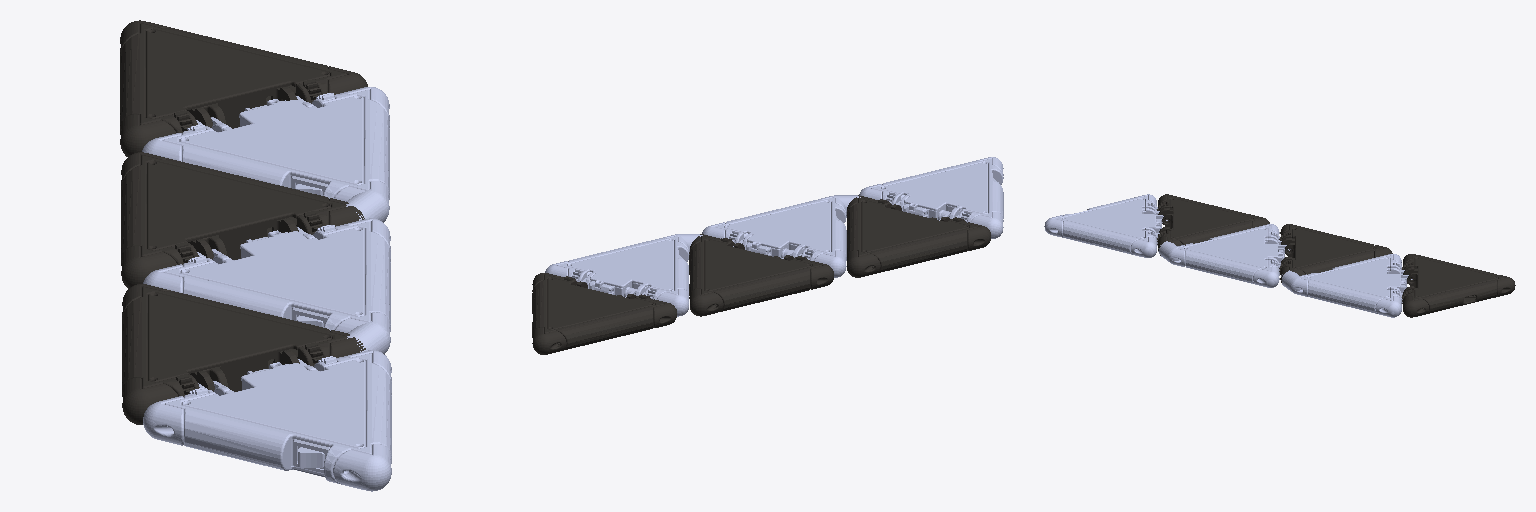
robot.urdf — 3modules:
<?xml version="1.0" encoding="utf-8"?>
<!-- This URDF was automatically created by SolidWorks to URDF Exporter! Originally created by [author] ([email redacted]) 
     Commit Version: 1.6.0-4-g7f85cfe  Build Version: 1.6.7995.38578
     For more information, please see http://wiki.ros.org/sw_urdf_exporter -->
<robot
  name="3modules">
  <link
    name="base_piece">
    <inertial>
      <origin
        xyz="0.0010345 0.005326 0.010966"
        rpy="0 0 0" />
      <mass
        value="0.080978" />
      <inertia
        ixx="4.7155E-05"
        ixy="1.4654E-07"
        ixz="-5.4158E-08"
        iyy="4.6452E-05"
        iyz="4.434E-08"
        izz="8.9367E-05" />
    </inertial>
    <visual>
      <origin
        xyz="0 0 0"
        rpy="0 0 0" />
      <geometry>
        <mesh
          filename="package://3modules/meshes/base_piece.STL" />
      </geometry>
      <material
        name="">
        <color
          rgba="0.79216 0.81961 0.93333 1" />
      </material>
    </visual>
    <collision>
      <origin
        xyz="0 0 0"
        rpy="0 0 0" />
      <geometry>
        <mesh
          filename="package://3modules/meshes/base_piece.STL" />
      </geometry>
    </collision>
  </link>
  <link
    name="link1">
    <inertial>
      <origin
        xyz="0.0087368 9.3905E-07 -0.0054744"
        rpy="0 0 0" />
      <mass
        value="0.0023104" />
      <inertia
        ixx="1.8096E-08"
        ixy="-1.7121E-12"
        ixz="4.7185E-09"
        iyy="1.3363E-07"
        iyz="2.3371E-12"
        izz="1.4184E-07" />
    </inertial>
    <visual>
      <origin
        xyz="0 0 0"
        rpy="0 0 0" />
      <geometry>
        <mesh
          filename="package://3modules/meshes/link1.STL" />
      </geometry>
      <material
        name="">
        <color
          rgba="0.79216 0.81961 0.93333 1" />
      </material>
    </visual>
    <collision>
      <origin
        xyz="0 0 0"
        rpy="0 0 0" />
      <geometry>
        <mesh
          filename="package://3modules/meshes/link1.STL" />
      </geometry>
    </collision>
  </link>
  <joint
    name="joint1"
    type="revolute">
    <origin
      xyz="0 0.033775 0.011"
      rpy="1.5708 0 1.5712" />
    <parent
      link="base_piece" />
    <child
      link="link1" />
    <axis
      xyz="0 0 -1" />
    <limit
      lower="-1.57"
      upper="1.57"
      effort="0"
      velocity="0" />
  </joint>
  <link
    name="piece1">
    <inertial>
      <origin
        xyz="0.03453 -0.00020927 -0.00012664"
        rpy="0 0 0" />
      <mass
        value="0.059891" />
      <inertia
        ixx="4.5118E-05"
        ixy="-2.442E-08"
        ixz="-3.1795E-07"
        iyy="8.4255E-05"
        iyz="-2.9297E-09"
        izz="4.26E-05" />
    </inertial>
    <visual>
      <origin
        xyz="0 0 0"
        rpy="0 0 0" />
      <geometry>
        <mesh
          filename="package://3modules/meshes/piece1.STL" />
      </geometry>
      <material
        name="">
        <color
          rgba="0.26275 0.25098 0.23922 1" />
      </material>
    </visual>
    <collision>
      <origin
        xyz="0 0 0"
        rpy="0 0 0" />
      <geometry>
        <mesh
          filename="package://3modules/meshes/piece1.STL" />
      </geometry>
    </collision>
  </link>
  <joint
    name="joint2"
    type="revolute">
    <origin
      xyz="0.020005 0 0"
      rpy="0 0 0" />
    <parent
      link="link1" />
    <child
      link="piece1" />
    <axis
      xyz="0 0 -1" />
    <limit
      lower="-1.57"
      upper="1.57"
      effort="0"
      velocity="0" />
  </joint>
  <link
    name="connector1">
    <inertial>
      <origin
        xyz="0.0095 -4.3299E-15 0.058546"
        rpy="0 0 0" />
      <mass
        value="0.0089784" />
      <inertia
        ixx="3.7274E-07"
        ixy="1.6736E-20"
        ixz="9.0765E-14"
        iyy="9.8046E-07"
        iyz="-2.8944E-23"
        izz="9.8046E-07" />
    </inertial>
    <visual>
      <origin
        xyz="0 0 0"
        rpy="0 0 0" />
      <geometry>
        <mesh
          filename="package://3modules/meshes/connector1.STL" />
      </geometry>
      <material
        name="">
        <color
          rgba="0.79216 0.81961 0.93333 1" />
      </material>
    </visual>
    <collision>
      <origin
        xyz="0 0 0"
        rpy="0 0 0" />
      <geometry>
        <mesh
          filename="package://3modules/meshes/connector1.STL" />
      </geometry>
    </collision>
  </link>
  <joint
    name="connector_joint1"
    type="revolute">
    <origin
      xyz="0.05071 0 0.029295"
      rpy="0 -1.0476 0" />
    <parent
      link="piece1" />
    <child
      link="connector1" />
    <axis
      xyz="0 0 1" />
    <limit
      lower="-1.57"
      upper="1.57"
      effort="0"
      velocity="0" />
  </joint>
  <link
    name="piece2">
    <inertial>
      <origin
        xyz="0.03736 -3.3609E-05 -0.0040952"
        rpy="0 0 0" />
      <mass
        value="0.080978" />
      <inertia
        ixx="4.7106E-05"
        ixy="-2.4733E-08"
        ixz="2.3093E-07"
        iyy="8.9367E-05"
        iyz="-6.5479E-08"
        izz="4.6501E-05" />
    </inertial>
    <visual>
      <origin
        xyz="0 0 0"
        rpy="0 0 0" />
      <geometry>
        <mesh
          filename="package://3modules/meshes/piece2.STL" />
      </geometry>
      <material
        name="">
        <color
          rgba="0.79216 0.81961 0.93333 1" />
      </material>
    </visual>
    <collision>
      <origin
        xyz="0 0 0"
        rpy="0 0 0" />
      <geometry>
        <mesh
          filename="package://3modules/meshes/piece2.STL" />
      </geometry>
    </collision>
  </link>
  <joint
    name="connector_joint2"
    type="revolute">
    <origin
      xyz="0.019 0 0"
      rpy="0 0 0" />
    <parent
      link="connector1" />
    <child
      link="piece2" />
    <axis
      xyz="0 0 1" />
    <limit
      lower="-1.57"
      upper="1.57"
      effort="0"
      velocity="0" />
  </joint>
  <link
    name="link2">
    <inertial>
      <origin
        xyz="0.0087368 9.3905E-07 -0.0054744"
        rpy="0 0 0" />
      <mass
        value="0.0023104" />
      <inertia
        ixx="1.8096E-08"
        ixy="-1.7121E-12"
        ixz="4.7185E-09"
        iyy="1.3363E-07"
        iyz="2.3371E-12"
        izz="1.4184E-07" />
    </inertial>
    <visual>
      <origin
        xyz="0 0 0"
        rpy="0 0 0" />
      <geometry>
        <mesh
          filename="package://3modules/meshes/link2.STL" />
      </geometry>
      <material
        name="">
        <color
          rgba="0.79216 0.81961 0.93333 1" />
      </material>
    </visual>
    <collision>
      <origin
        xyz="0 0 0"
        rpy="0 0 0" />
      <geometry>
        <mesh
          filename="package://3modules/meshes/link2.STL" />
      </geometry>
    </collision>
  </link>
  <joint
    name="joint3"
    type="revolute">
    <origin
      xyz="0.050689 0 -0.02925"
      rpy="0 1.0476 0" />
    <parent
      link="piece2" />
    <child
      link="link2" />
    <axis
      xyz="0 0 -1" />
    <limit
      lower="-1.57"
      upper="1.57"
      effort="0"
      velocity="0" />
  </joint>
  <link
    name="piece3">
    <inertial>
      <origin
        xyz="0.03453 -0.00020927 -0.00012663"
        rpy="0 0 0" />
      <mass
        value="0.059891" />
      <inertia
        ixx="4.5118E-05"
        ixy="-2.4421E-08"
        ixz="-3.1795E-07"
        iyy="8.4255E-05"
        iyz="-2.932E-09"
        izz="4.26E-05" />
    </inertial>
    <visual>
      <origin
        xyz="0 0 0"
        rpy="0 0 0" />
      <geometry>
        <mesh
          filename="package://3modules/meshes/piece3.STL" />
      </geometry>
      <material
        name="">
        <color
          rgba="0.26275 0.25098 0.23922 1" />
      </material>
    </visual>
    <collision>
      <origin
        xyz="0 0 0"
        rpy="0 0 0" />
      <geometry>
        <mesh
          filename="package://3modules/meshes/piece3.STL" />
      </geometry>
    </collision>
  </link>
  <joint
    name="joint4"
    type="revolute">
    <origin
      xyz="0.020005 0 0"
      rpy="0 0 0" />
    <parent
      link="link2" />
    <child
      link="piece3" />
    <axis
      xyz="0 0 -1" />
    <limit
      lower="-1.57"
      upper="1.57"
      effort="0"
      velocity="0" />
  </joint>
  <link
    name="connector2">
    <inertial>
      <origin
        xyz="0.0095 2.2204E-16 0.058546"
        rpy="0 0 0" />
      <mass
        value="0.0089784" />
      <inertia
        ixx="3.7274E-07"
        ixy="-9.1102E-21"
        ixz="3.2326E-13"
        iyy="9.8046E-07"
        iyz="2.4825E-24"
        izz="9.8046E-07" />
    </inertial>
    <visual>
      <origin
        xyz="0 0 0"
        rpy="0 0 0" />
      <geometry>
        <mesh
          filename="package://3modules/meshes/connector2.STL" />
      </geometry>
      <material
        name="">
        <color
          rgba="0.79216 0.81961 0.93333 1" />
      </material>
    </visual>
    <collision>
      <origin
        xyz="0 0 0"
        rpy="0 0 0" />
      <geometry>
        <mesh
          filename="package://3modules/meshes/connector2.STL" />
      </geometry>
    </collision>
  </link>
  <joint
    name="connector_joint3"
    type="revolute">
    <origin
      xyz="0.05071 0 0.029295"
      rpy="0 -1.0476 0" />
    <parent
      link="piece3" />
    <child
      link="connector2" />
    <axis
      xyz="0 0 1" />
    <limit
      lower="-1.57"
      upper="1.57"
      effort="0"
      velocity="0" />
  </joint>
  <link
    name="piece4">
    <inertial>
      <origin
        xyz="0.03736 -3.3609E-05 -0.0040952"
        rpy="0 0 0" />
      <mass
        value="0.080978" />
      <inertia
        ixx="4.7106E-05"
        ixy="-2.4729E-08"
        ixz="2.3094E-07"
        iyy="8.9367E-05"
        iyz="-6.5478E-08"
        izz="4.6501E-05" />
    </inertial>
    <visual>
      <origin
        xyz="0 0 0"
        rpy="0 0 0" />
      <geometry>
        <mesh
          filename="package://3modules/meshes/piece4.STL" />
      </geometry>
      <material
        name="">
        <color
          rgba="0.79216 0.81961 0.93333 1" />
      </material>
    </visual>
    <collision>
      <origin
        xyz="0 0 0"
        rpy="0 0 0" />
      <geometry>
        <mesh
          filename="package://3modules/meshes/piece4.STL" />
      </geometry>
    </collision>
  </link>
  <joint
    name="connector_joint4"
    type="revolute">
    <origin
      xyz="0.019 0 0"
      rpy="0 0 0" />
    <parent
      link="connector2" />
    <child
      link="piece4" />
    <axis
      xyz="0 0 1" />
    <limit
      lower="-1.57"
      upper="1.57"
      effort="0"
      velocity="0" />
  </joint>
  <link
    name="link3">
    <inertial>
      <origin
        xyz="0.0087368 9.3905E-07 -0.0054744"
        rpy="0 0 0" />
      <mass
        value="0.0023104" />
      <inertia
        ixx="1.8096E-08"
        ixy="-1.7121E-12"
        ixz="4.7185E-09"
        iyy="1.3363E-07"
        iyz="2.3371E-12"
        izz="1.4184E-07" />
    </inertial>
    <visual>
      <origin
        xyz="0 0 0"
        rpy="0 0 0" />
      <geometry>
        <mesh
          filename="package://3modules/meshes/link3.STL" />
      </geometry>
      <material
        name="">
        <color
          rgba="0.79216 0.81961 0.93333 1" />
      </material>
    </visual>
    <collision>
      <origin
        xyz="0 0 0"
        rpy="0 0 0" />
      <geometry>
        <mesh
          filename="package://3modules/meshes/link3.STL" />
      </geometry>
    </collision>
  </link>
  <joint
    name="joint5"
    type="revolute">
    <origin
      xyz="0.050689 0 -0.02925"
      rpy="0 1.0476 0" />
    <parent
      link="piece4" />
    <child
      link="link3" />
    <axis
      xyz="0 0 -1" />
    <limit
      lower="-1.57"
      upper="1.57"
      effort="0"
      velocity="0" />
  </joint>
  <link
    name="piece5">
    <inertial>
      <origin
        xyz="0.03453 -0.00020927 -0.00012664"
        rpy="0 0 0" />
      <mass
        value="0.059891" />
      <inertia
        ixx="4.5118E-05"
        ixy="-2.442E-08"
        ixz="-3.1795E-07"
        iyy="8.4255E-05"
        iyz="-2.9295E-09"
        izz="4.26E-05" />
    </inertial>
    <visual>
      <origin
        xyz="0 0 0"
        rpy="0 0 0" />
      <geometry>
        <mesh
          filename="package://3modules/meshes/piece5.STL" />
      </geometry>
      <material
        name="">
        <color
          rgba="0.26275 0.25098 0.23922 1" />
      </material>
    </visual>
    <collision>
      <origin
        xyz="0 0 0"
        rpy="0 0 0" />
      <geometry>
        <mesh
          filename="package://3modules/meshes/piece5.STL" />
      </geometry>
    </collision>
  </link>
  <joint
    name="joint6"
    type="revolute">
    <origin
      xyz="0.020005 0 0"
      rpy="0 0 0" />
    <parent
      link="link3" />
    <child
      link="piece5" />
    <axis
      xyz="0 0 -1" />
    <limit
      lower="-1.57"
      upper="1.57"
      effort="0"
      velocity="0" />
  </joint>
</robot>

--- Render facts (derived) ---
The picture shows the robot from 3 angles, left to right: view 1: azimuth 30°, elevation 25°; view 2: azimuth 150°, elevation 25°; view 3: azimuth 270°, elevation 25°; orthographic projection.
Model 3modules with 11 links and 10 joints (10 revolute), rooted at base_piece, posed every joint at zero.
Visible links, largest first — view 1: base_piece, piece5, piece1, piece2, piece4, piece3, connector2, connector1; view 2: piece5, piece3, piece1, base_piece, piece2, piece4; view 3: base_piece, piece2, piece4, piece5, piece1, piece3.
Link boxes in pixels (<box>): base_piece: <box>143,350,391,491</box>; piece5: <box>120,20,367,156</box>; piece1: <box>122,284,365,424</box>; piece2: <box>143,218,390,354</box>; piece4: <box>142,87,389,221</box>; piece3: <box>121,152,364,288</box>; connector2: <box>346,189,389,222</box>; connector1: <box>347,321,390,353</box>; piece5: <box>532,273,676,354</box>; piece3: <box>689,234,833,316</box>; piece1: <box>847,195,990,277</box>; base_piece: <box>859,157,1003,238</box>; piece2: <box>702,195,846,277</box>; piece4: <box>545,234,688,316</box>; base_piece: <box>1044,194,1161,257</box>; piece2: <box>1168,224,1284,287</box>; piece4: <box>1290,254,1406,317</box>; piece5: <box>1402,254,1515,317</box>; piece1: <box>1157,194,1269,255</box>; piece3: <box>1279,224,1392,282</box>.
Size in the robot's own frame: 0.2861 by 0.5036 by 0.022 metres.
Meshes: 11 distinct files referenced, 11 mesh visuals loaded (11 binary STL).